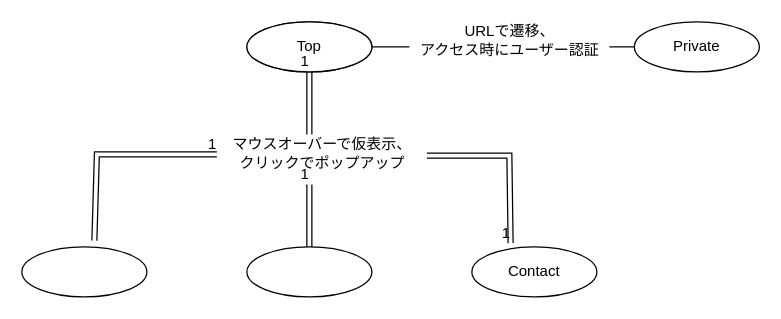
The diagram is 781 pixels wide and 319 high, and some of its shapes have lost their labels. Each missing label, with the box of its shape:
Profile: (21, 246, 147, 297)
Works: (246, 246, 372, 297)
